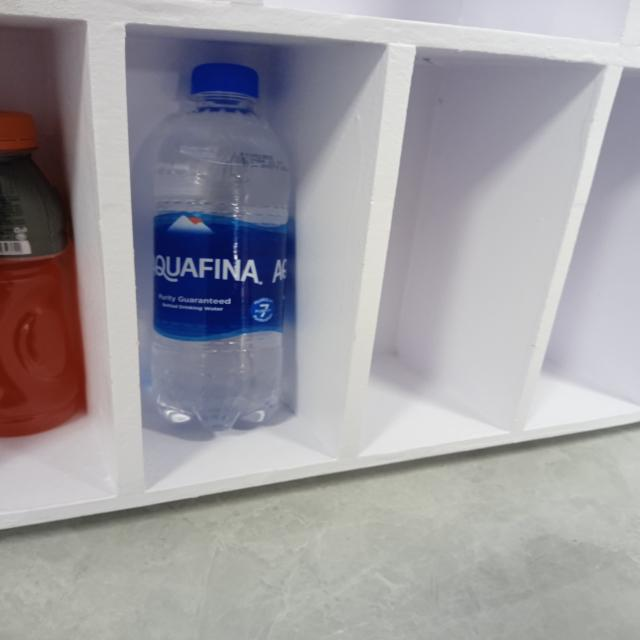Plastic: (146, 59, 295, 436), (0, 104, 86, 439)
